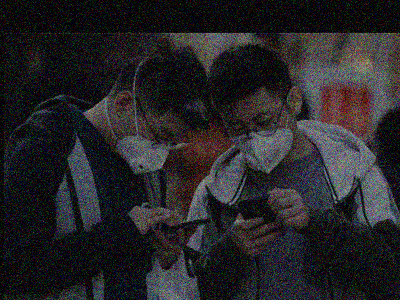with_mask: (224, 105, 298, 165), (116, 119, 180, 176)
